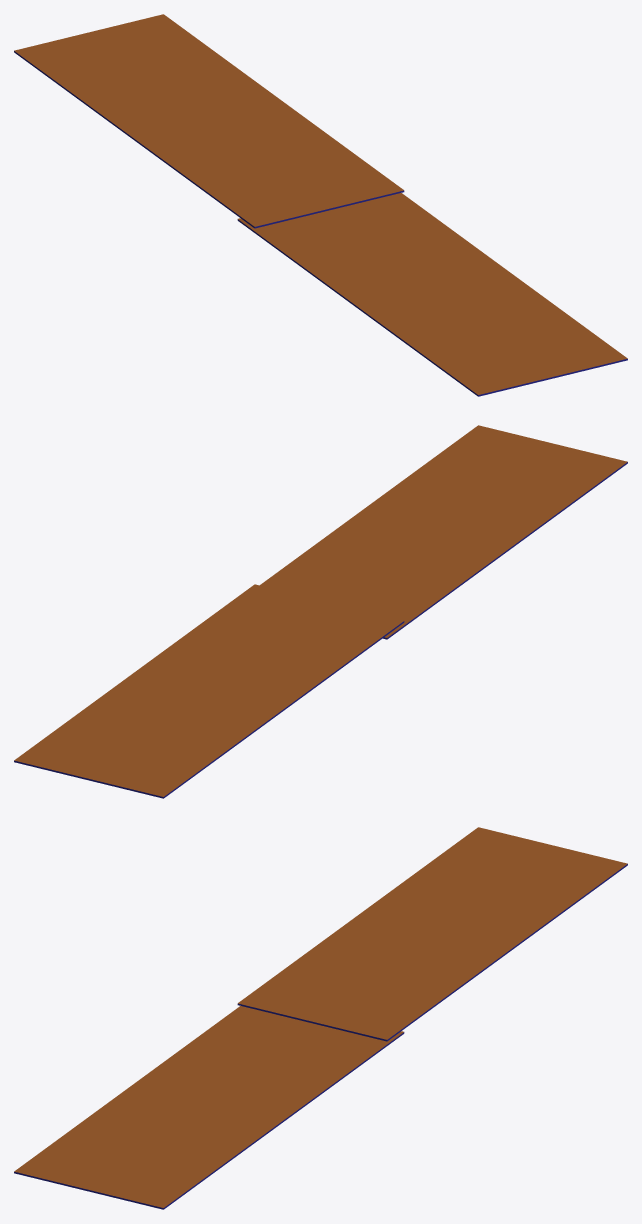
File: dachglas_schiebeglas_repeat.FBX
3 views of the same model, one above another, from view 1: azimuth 30°, elevation 25°; view 2: azimuth 150°, elevation 25°; view 3: azimuth 330°, elevation 25° (orthographic).
Visible parts, largest first — view 1: dachglas_schiebeglas_repeat; view 2: dachglas_schiebeglas_repeat; view 3: dachglas_schiebeglas_repeat.
Boxes of the visible parts, x1,y1,x2,y2 form: dachglas_schiebeglas_repeat: (14, 14, 627, 396); dachglas_schiebeglas_repeat: (14, 425, 627, 798); dachglas_schiebeglas_repeat: (14, 827, 627, 1209).
Bounding box in the file's own units: 7.5 × 0.3 × 40.3.
